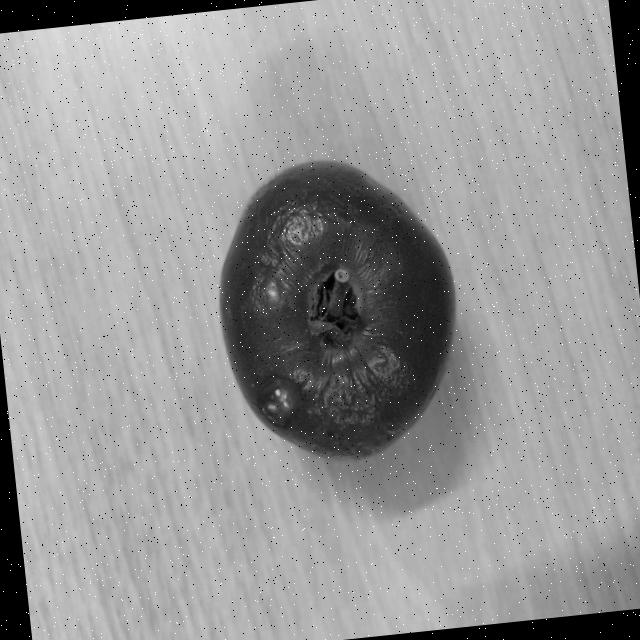Rotten: (205, 146, 472, 469)
